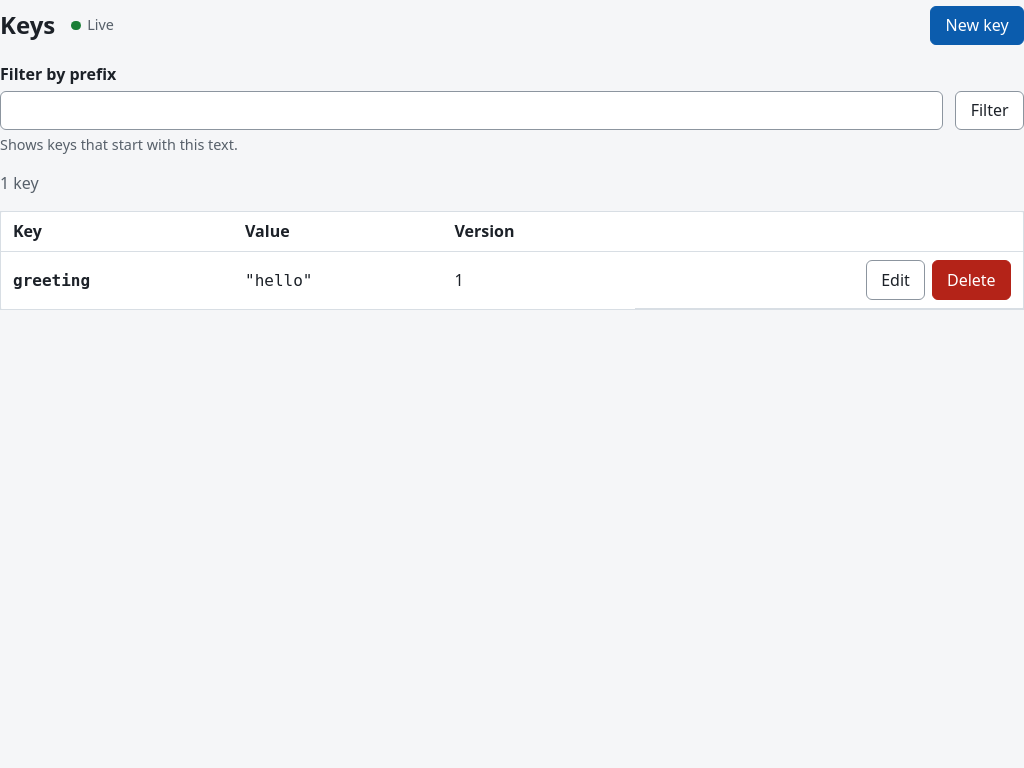
Test: KeysView › conflict dialog (412) › shows your value and the latest value, and keeps your text
Click the button with aria-label "Edit greeting". click: (896, 280)
box: [866, 260, 925, 300]
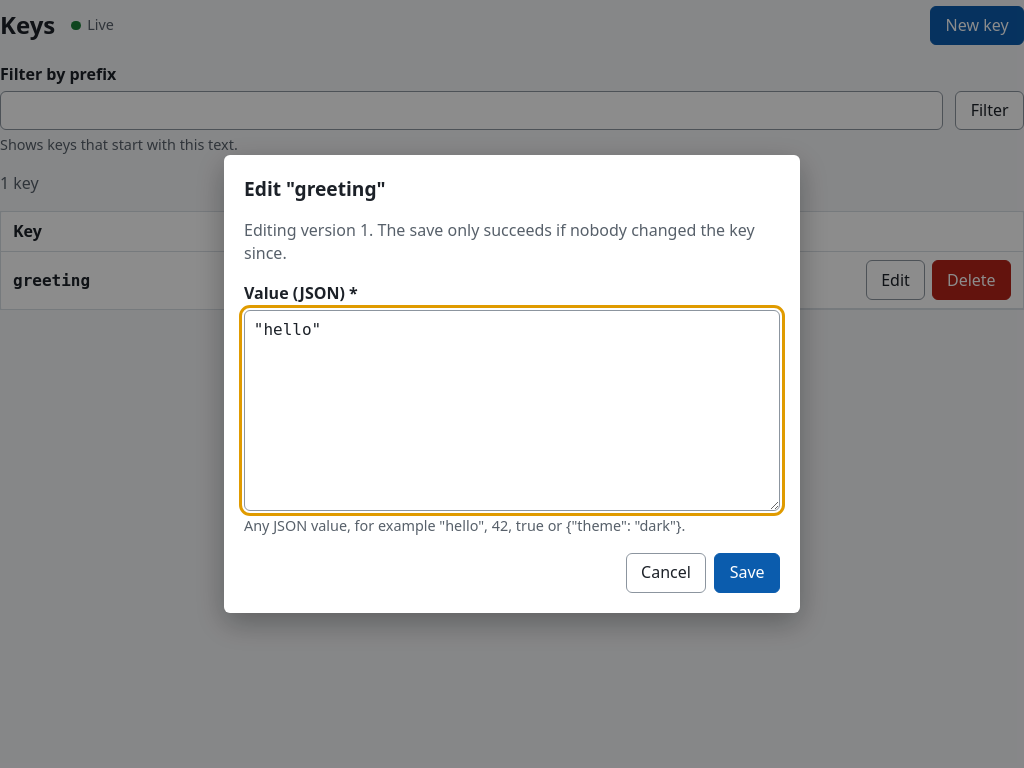
Replace the text in the text box labelled "Value (JSON) *" with "\"my careful edit\"". click: (512, 410)
box: [244, 310, 780, 511]
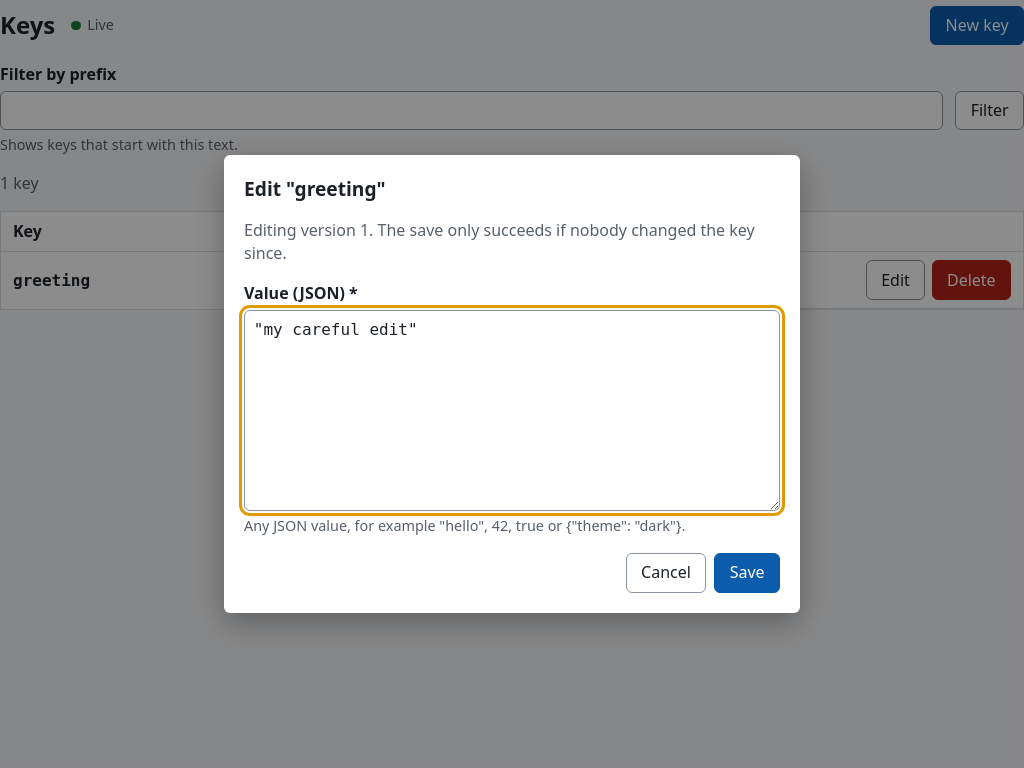
Submit the form with id "key-editor", box [244, 219, 780, 537]
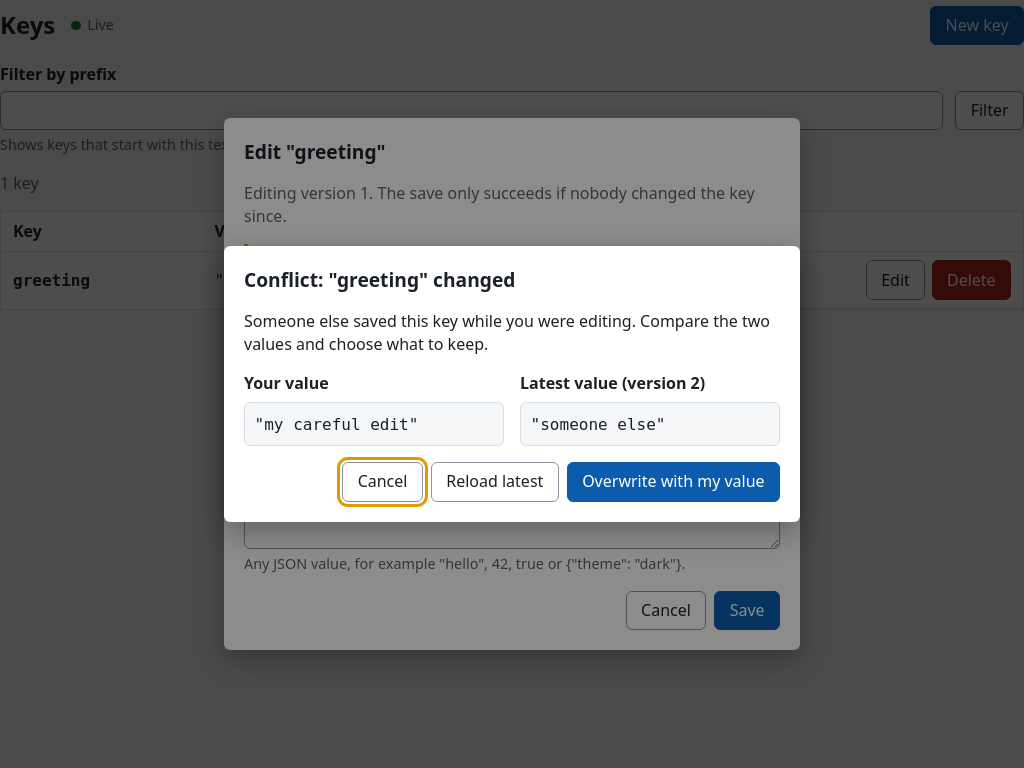
Expected: the dialog shows "Your value", [244, 372, 329, 394]
Expected: the dialog shows "\"my careful edit\"", [255, 414, 418, 434]
Expected: the dialog shows "Latest value (version 2)", [520, 372, 705, 394]
